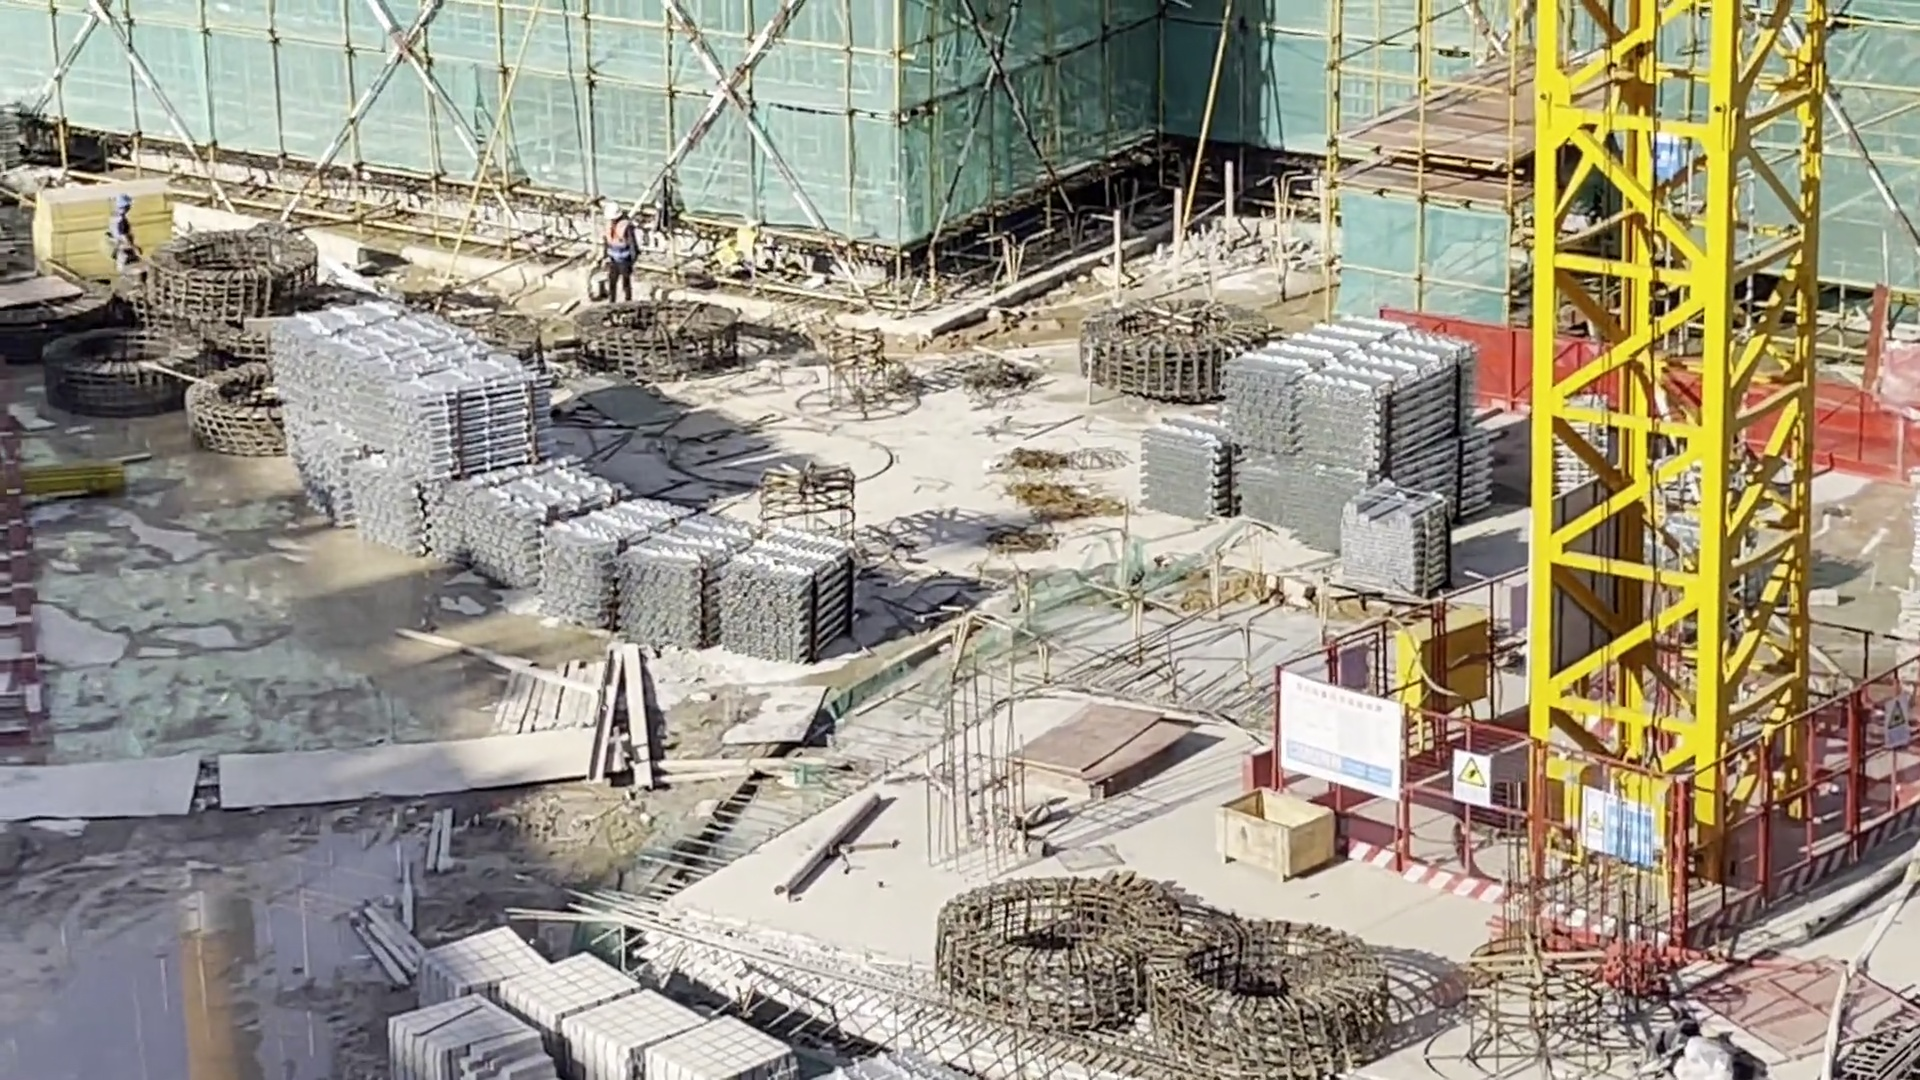board: (46, 167, 179, 256)
ebox: (1404, 612, 1518, 734), (1564, 736, 1634, 859)
fence: (1273, 711, 1688, 959), (1676, 666, 1920, 964), (1829, 377, 1920, 478)
helmet: (606, 201, 626, 227), (119, 192, 133, 211)
person: (596, 201, 633, 298), (111, 186, 144, 256)
scaffold: (268, 301, 523, 527), (1261, 337, 1444, 516), (659, 527, 849, 651), (566, 499, 678, 632), (486, 466, 586, 587), (1156, 401, 1248, 514), (1326, 506, 1408, 579)
vest: (608, 221, 631, 276), (109, 221, 133, 249)
